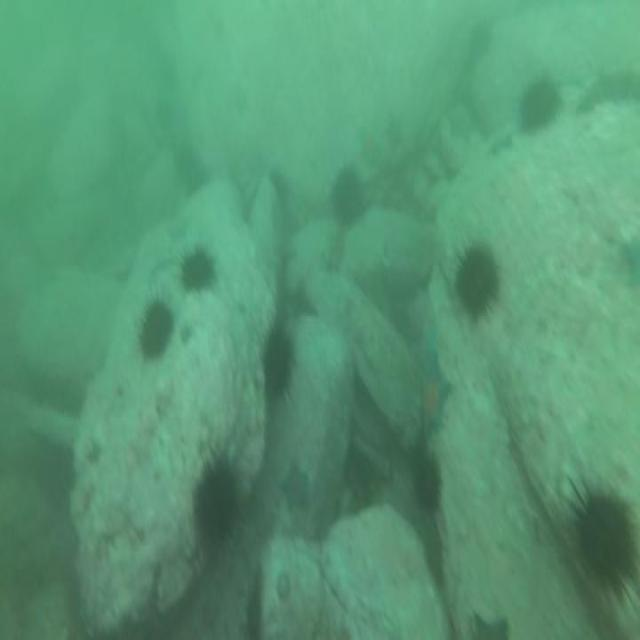echinus: (561, 471, 640, 613), (191, 449, 241, 551), (449, 237, 499, 327), (407, 441, 443, 525), (518, 72, 563, 138), (260, 327, 298, 403), (136, 292, 174, 367), (328, 158, 367, 231), (176, 243, 220, 299), (268, 166, 290, 207)
holothurian: (573, 62, 640, 123)
starfish: (415, 352, 453, 444), (279, 458, 311, 520), (380, 111, 408, 158), (356, 124, 382, 164)
